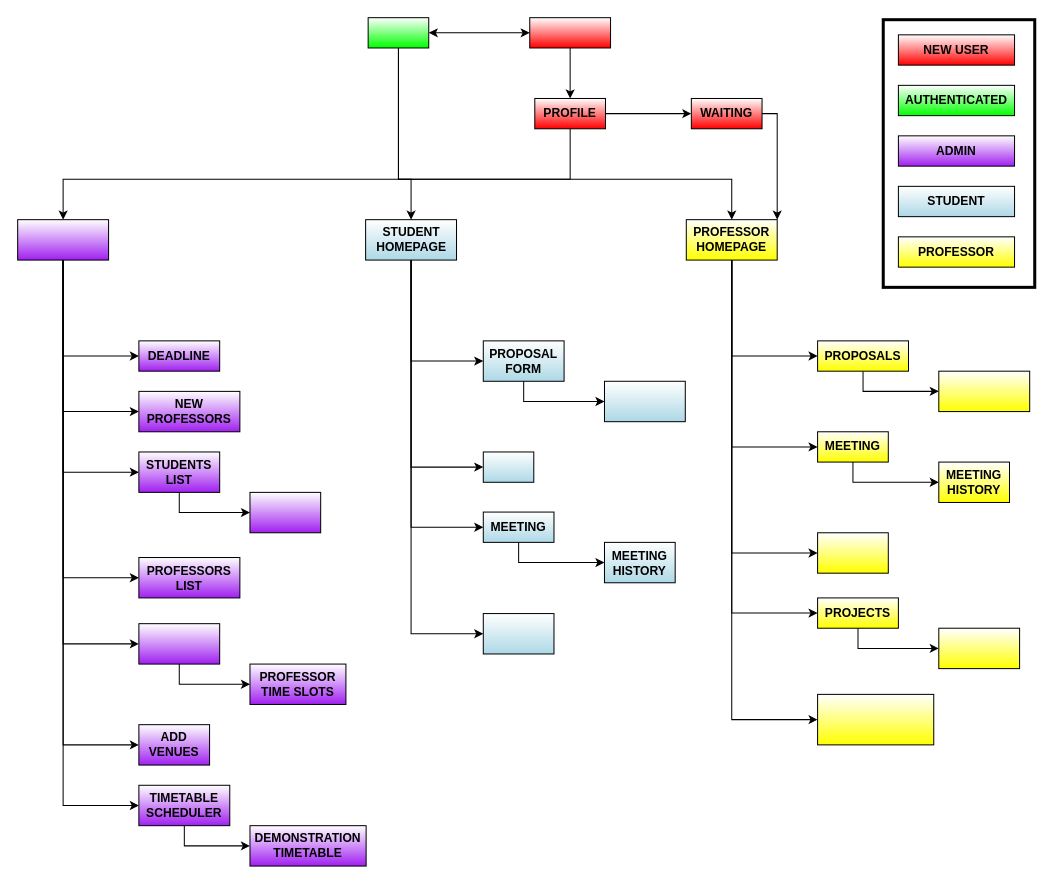
The diagram is 1053 pixels wide and 884 high, and some of its shapes have lost their labels. The centre of each missing label's shape, as x and y in pixels:
"ADD TIME SLOTS" belongs at point 852,552.
"ADMIN HOMEPAGE" belongs at point 63,239.
"ASSIGN STUDENT" belongs at point 285,512.
"EDIT DETAILS" belongs at point 518,633.
"FILES" belongs at point 508,466.
"INDIVIDUAL PROJECT" belongs at point 979,648.
"INDIVIDUAL PROPOSAL" belongs at point 984,391.
"LOGIN" belongs at point 398,32.
"PROFESSOR DEMONSTRATION TIMETABLE" belongs at point 875,719.
"REGISTER" belongs at point 570,32.
"SUBMIT PROPOSAL" belongs at point 644,401.
"TIME SLOTS LIST" belongs at point 179,643.
